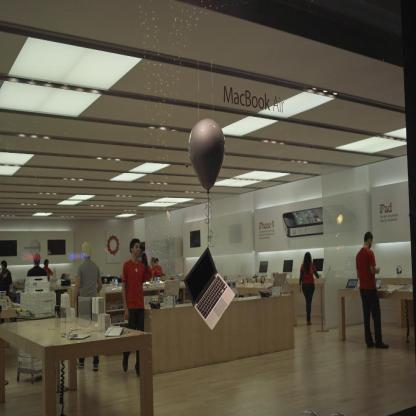board: (178, 253, 239, 334), (340, 279, 358, 291)
